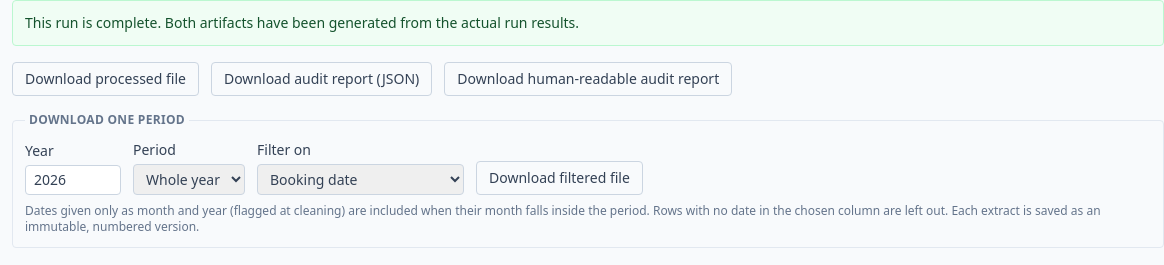
it: ReportActions period download › refuses an invalid year
The image size is (1164, 265).
Replace the text in the number field labelled "Year" with "12". click: (73, 180)
box: [25, 165, 121, 195]
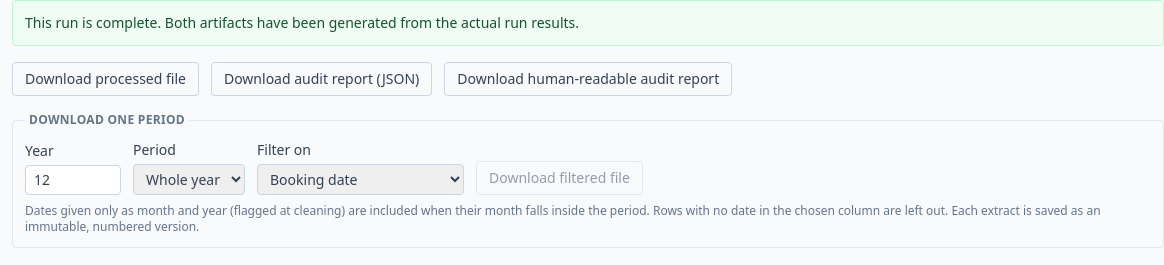
Now the button "Download filtered file" is disabled, box [476, 161, 643, 195]
